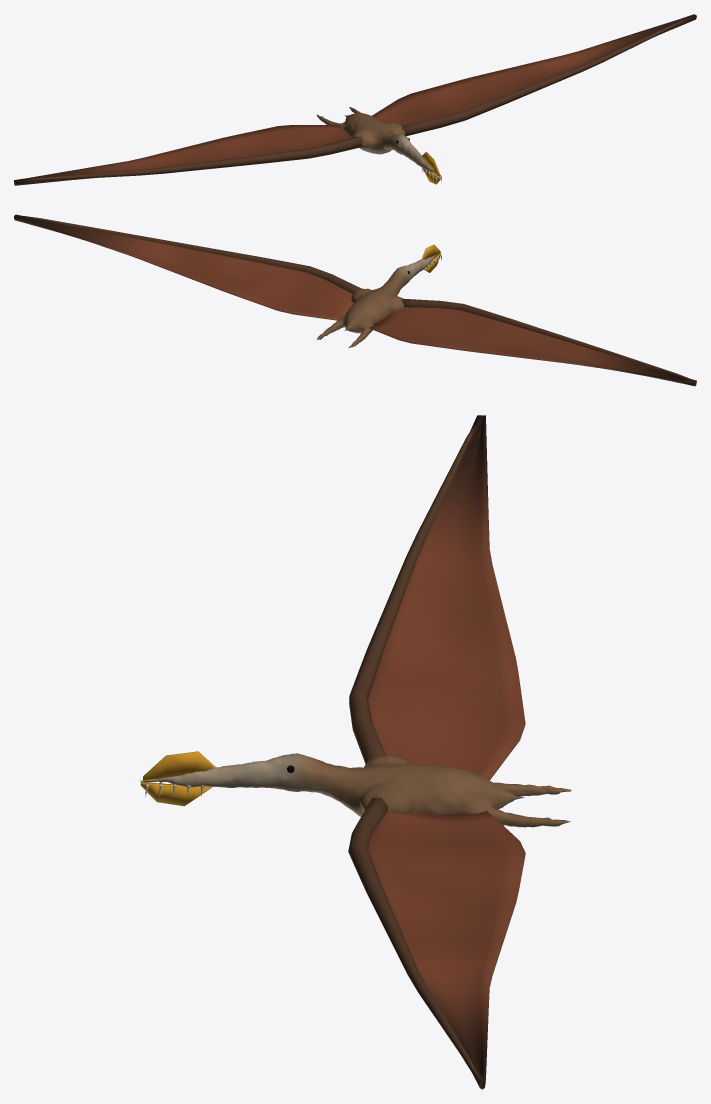
The model's file is Tropeognathus.fbx.
The picture shows the model from 3 angles, top to bottom: view 1: azimuth 30°, elevation 25°; view 2: azimuth 150°, elevation 25°; view 3: azimuth 270°, elevation 25°; orthographic projection. The views are drawn at different scales.
Visible parts, largest first — view 1: Tropeognathus; view 2: Tropeognathus; view 3: Tropeognathus.
Boxes of the visible parts, x1=… form: Tropeognathus: x1=14, y1=14, x2=696, y2=185; Tropeognathus: x1=14, y1=214, x2=696, y2=386; Tropeognathus: x1=139, y1=415, x2=571, y2=1089.
Size of the model in its own units: 3.4 by 0.1902 by 0.9361.
